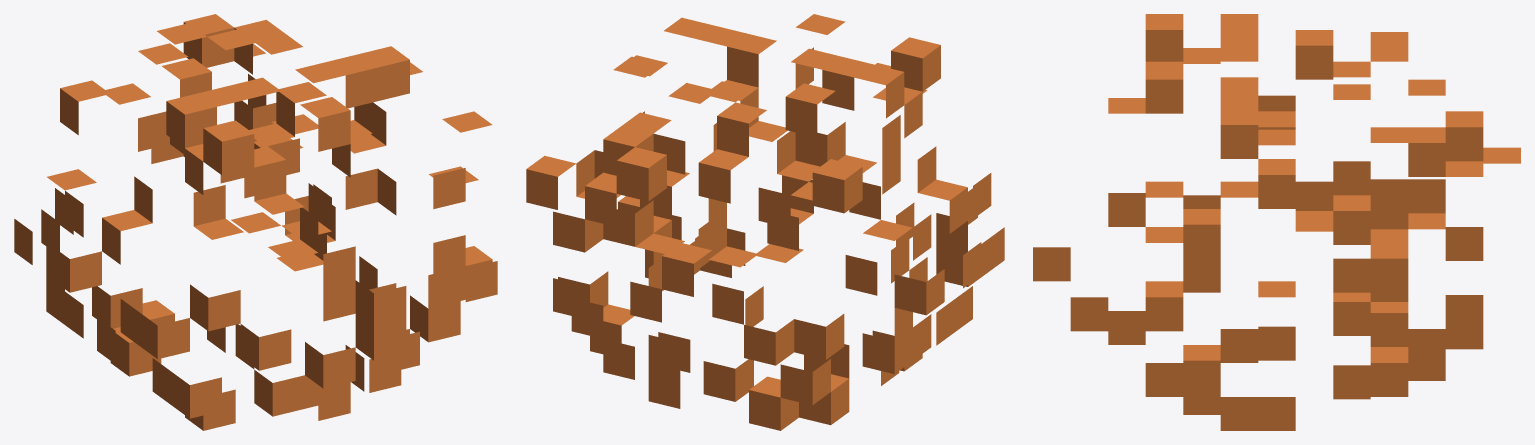
Rendered from tree-maple-1p2-maple-e07f3a.gltf.
3 renders of one model, left to right at view 1: azimuth 30°, elevation 25°; view 2: azimuth 150°, elevation 25°; view 3: azimuth 270°, elevation 25°, orthographic. The views are drawn at different scales.
Visible parts, largest first — view 1: tree-maple-1p2-maple-e07f3a; view 2: tree-maple-1p2-maple-e07f3a; view 3: tree-maple-1p2-maple-e07f3a.
Part boxes in pixels (x1,y1,x2,y2): tree-maple-1p2-maple-e07f3a: [14, 14, 497, 430]; tree-maple-1p2-maple-e07f3a: [526, 14, 1004, 430]; tree-maple-1p2-maple-e07f3a: [1033, 14, 1520, 430].
Size of the model in its own units: 12 by 9 by 13.
